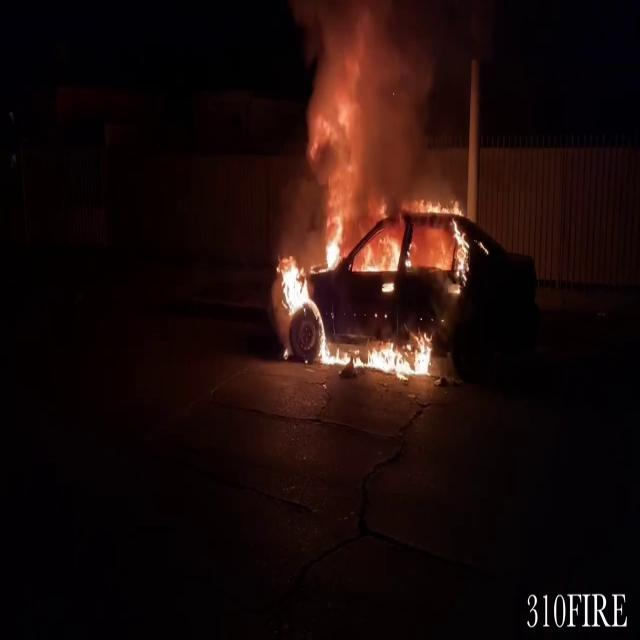Fire: (274, 252, 330, 364), (315, 214, 404, 278), (349, 328, 437, 382)
Smoke: (270, 0, 463, 226)
